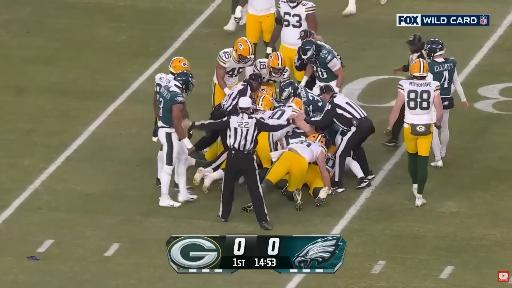Helmet: (233, 38, 254, 63), (174, 71, 194, 95), (255, 87, 274, 110), (268, 52, 286, 76), (424, 39, 444, 60), (280, 80, 299, 101), (300, 39, 317, 61), (169, 57, 189, 74), (410, 59, 428, 76), (286, 98, 303, 111), (307, 134, 325, 145), (288, 0, 302, 8), (327, 145, 336, 155)
Jersey: (278, 0, 315, 49), (398, 80, 439, 124), (428, 58, 456, 109), (218, 48, 253, 86), (157, 82, 184, 127), (309, 45, 340, 82), (254, 59, 289, 83), (299, 87, 326, 117), (288, 141, 326, 162), (317, 41, 343, 66), (254, 107, 296, 122), (254, 107, 296, 121), (283, 128, 307, 148), (247, 0, 276, 16), (155, 73, 174, 92), (326, 154, 335, 175)
Player: (386, 59, 442, 206), (154, 71, 196, 207), (425, 39, 468, 167), (262, 134, 330, 210), (267, 0, 317, 80), (212, 38, 254, 106), (300, 39, 344, 94), (235, 0, 275, 48), (280, 81, 326, 117), (256, 126, 294, 169), (300, 29, 343, 67), (254, 52, 290, 95), (154, 57, 189, 97), (394, 34, 426, 76), (255, 95, 303, 120), (194, 169, 223, 192), (255, 87, 274, 114), (224, 0, 239, 32), (343, 0, 356, 15)
